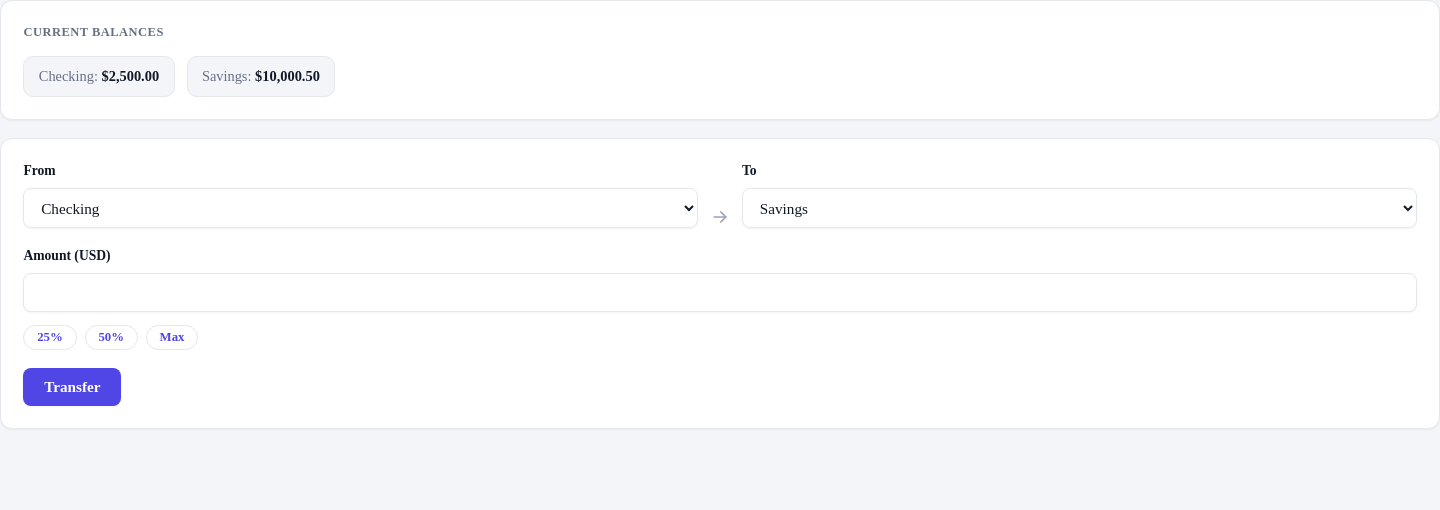
Test case: TransferForm balances › updates the balances card from the transfer response
Type "100" into the number field labelled "Amount (USD)". click: [720, 292]
box: [23, 273, 1417, 312]
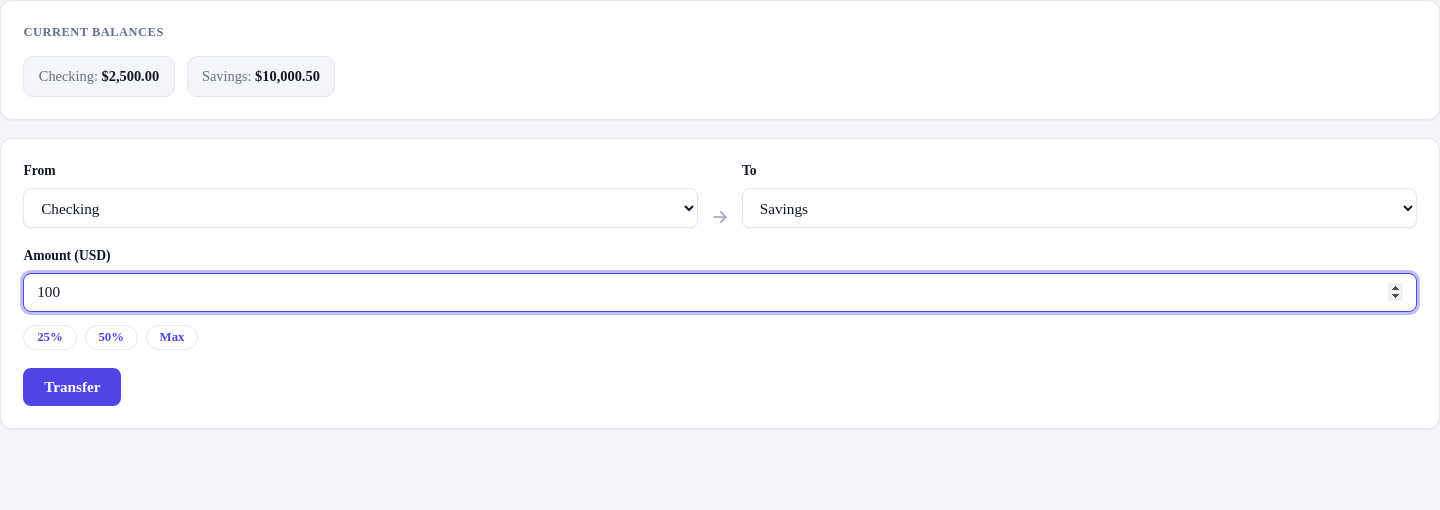
Click the button "Transfer". click: [72, 387]
box: [23, 368, 121, 406]
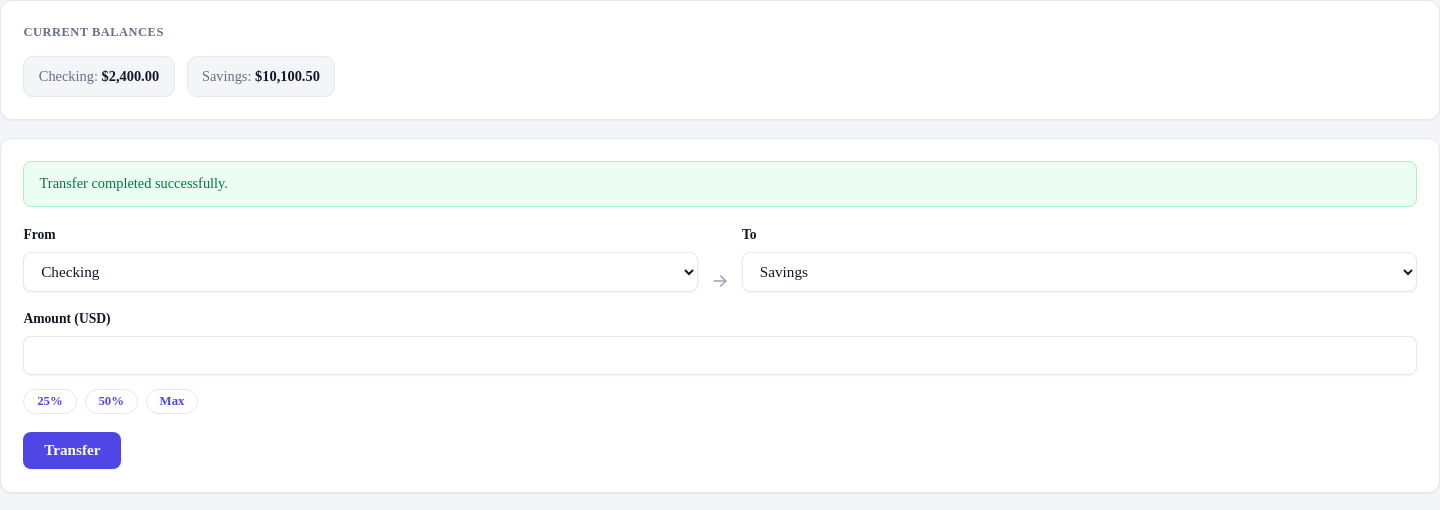
expect the text "Transfer completed successfully." is shown: met, box [23, 161, 1417, 207]
expect the list with test id "transfer-balances" shows "Checking: $2,400.00": met, box [23, 56, 335, 97]
expect the list with test id "transfer-balances" shows "Savings: $10,100.50": met, box [23, 56, 335, 97]
